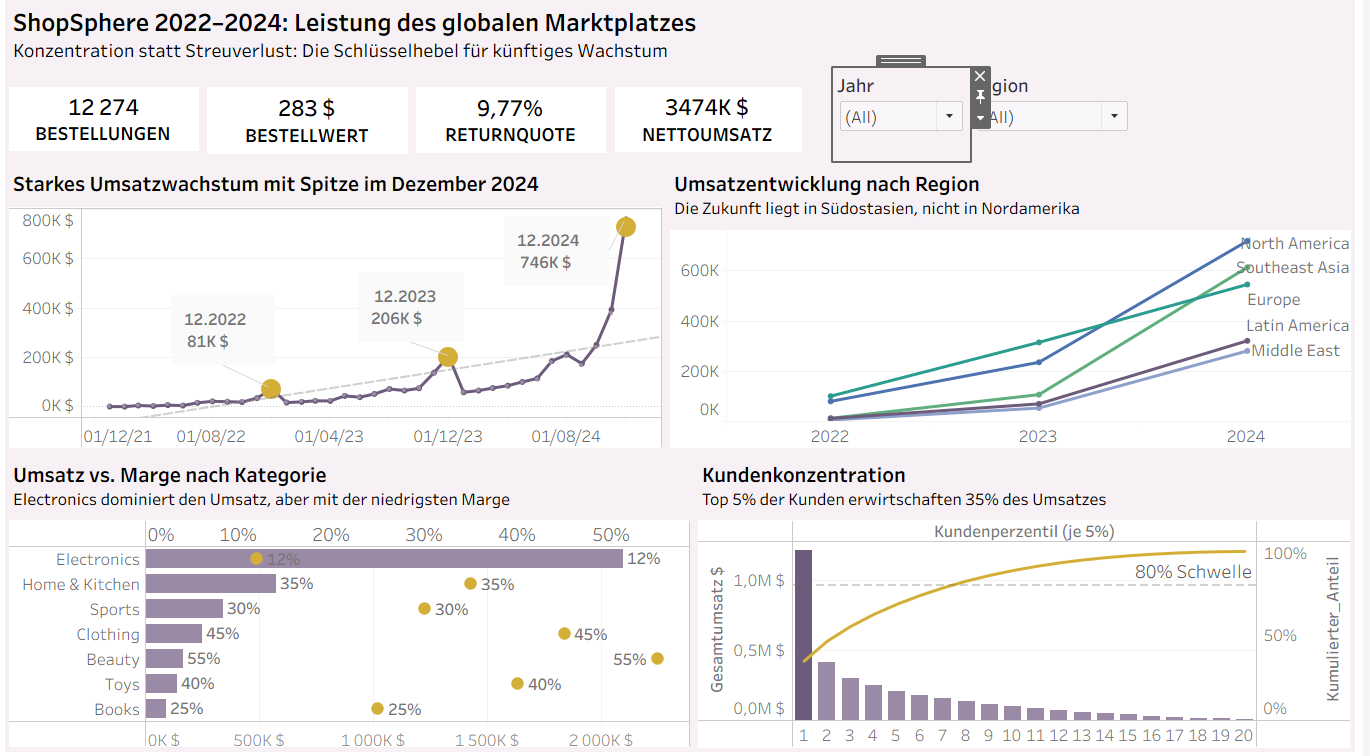

The dashboard page shown, as its layout file describes it:
{"tool":"tableau","page":{"name":"CEO_Dashboard","canvas":[1366,768],"ordinal":0},"visuals":[{"type":"text","box":[8,8,1350,68]},{"type":"worksheet","title":"KPI_Orders","mark":"Automatic","box":[8,76,198,93]},{"type":"worksheet","title":"KPI_AVG","mark":"Automatic","box":[206,76,209,93]},{"type":"worksheet","title":"KPI_RR","mark":"Automatic","box":[415,76,199,93]},{"type":"worksheet","title":"KPI_Revenue","mark":"Automatic","box":[614,76,222,93]},{"type":"filter","title":"Regionen_Trend","param":"[federated.0qwvyr50piz0yi10odvf11nhx4iq].[none:order_year:ok]","box":[836,76,137,93]},{"type":"filter","title":"Regionen_Trend","param":"[federated.0qwvyr50piz0yi10odvf11nhx4iq].[none:region:nk]","box":[973,76,165,93]},{"type":"worksheet","title":"Umsatzentwicklung nach Monat (2022–2024)","mark":"Line","rows":["total_revenue","total_revenue"],"cols":["Calculation_1445057747787776"],"box":[8,169,661,291]},{"type":"worksheet","title":"Regionen_Trend","mark":"Line","rows":["total_net_revenue"],"cols":["order_year"],"box":[669,169,689,291]},{"type":"worksheet","title":"Mrage nach Kategorie (2)","mark":"Bar","rows":["category"],"cols":["total_revenue","avg_margin_pct"],"box":[8,460,689,300]},{"type":"worksheet","title":"Pareto","mark":"Bar","rows":["bucket_revenue"],"cols":["percentile_bucket"],"box":[697,460,661,300]}]}

Visuals, with their boxes in screenshot pixels (x1, y1, x2, y2), scaled from the page's 1366x768 canvas onto the 1370x756 screenshot:
text: 8, 8, 1362, 75
"KPI_Orders" worksheet: 8, 75, 207, 166
"KPI_AVG" worksheet: 207, 75, 416, 166
"KPI_RR" worksheet: 416, 75, 616, 166
"KPI_Revenue" worksheet: 616, 75, 838, 166
"Regionen_Trend" filter: 838, 75, 976, 166
"Regionen_Trend" filter: 976, 75, 1141, 166
"Umsatzentwicklung nach Monat (2022–2024)" worksheet (Line marks): 8, 166, 671, 453
"Regionen_Trend" worksheet (Line marks): 671, 166, 1362, 453
"Mrage nach Kategorie (2)" worksheet (Bar marks): 8, 453, 699, 748
"Pareto" worksheet (Bar marks): 699, 453, 1362, 748
